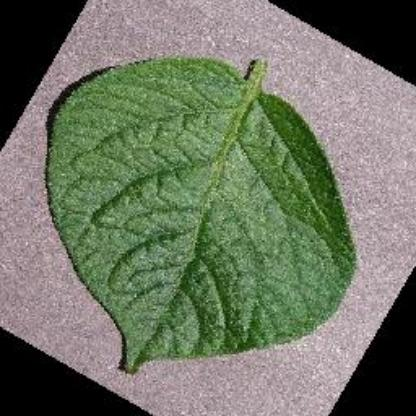Healthy-plant: (48, 55, 358, 376)
